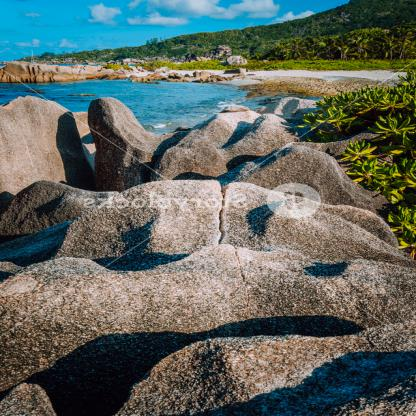Igneous_Granite: (108, 314, 415, 415), (5, 256, 400, 313), (101, 186, 367, 246), (1, 96, 71, 212)
